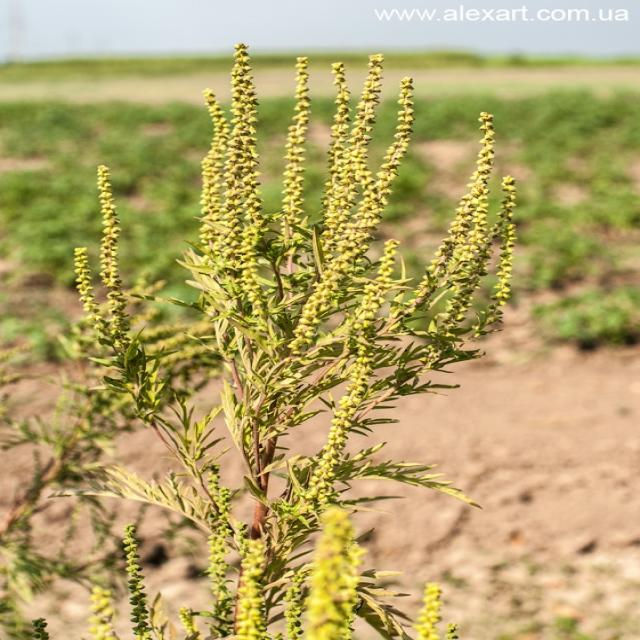ambrosia: (156, 41, 524, 482)
